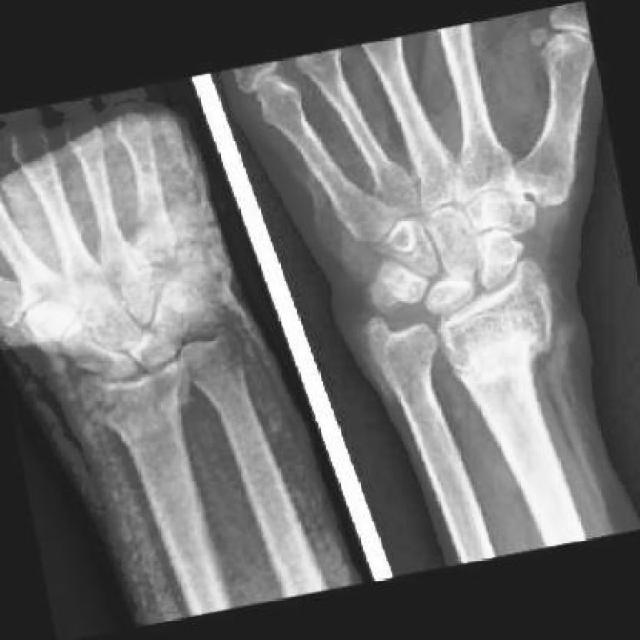Fracture: (445, 317, 561, 383), (88, 379, 194, 439)
